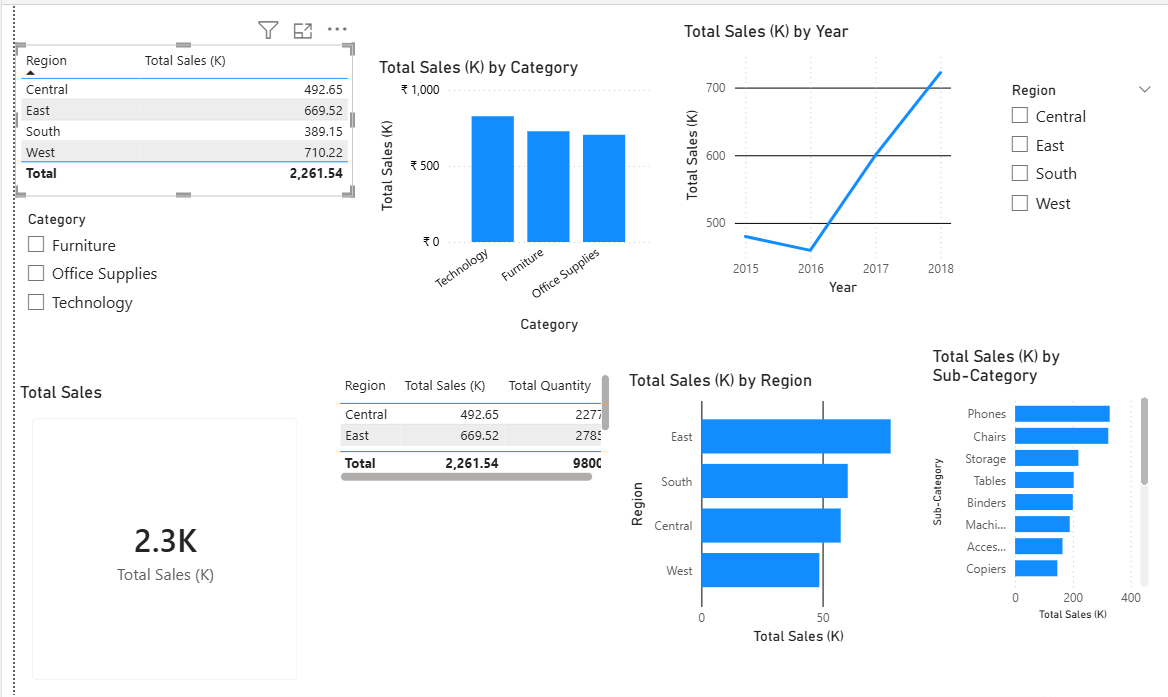

What the dashboard file says about the page in this screenshot:
{"tool":"powerbi","page":{"name":"Page 1","canvas":[1280,720],"ordinal":0},"visuals":[{"type":"tableEx","fields":{"Values":["train.Region","train.Total Sales"]},"box":[0,71.4,279.9,91.9],"z":2},{"type":"lineChart","fields":{"Category":["train.Order Date.Variation.Date Hierarchy.Year","train.Order Date.Variation.Date Hierarchy.Quarter","train.Order Date.Variation.Date Hierarchy.Month","train.Order Date.Variation.Date Hierarchy.Day"],"Y":["train.Total Sales"]},"box":[599.7,43.9,279.9,279.9],"z":4},{"type":"tableEx","fields":{"Values":["train.Region","train.Total Sales","train.Total Quantity"]},"box":[318.4,392.5,281.3,116.6],"z":6},{"type":"slicer","fields":{"Values":["train.Region"]},"box":[937.2,100.2,277.2,166],"z":7},{"type":"clusteredBarChart","fields":{"Category":["train.Sub-Category"],"Y":["train.Total Sales"]},"box":[1012.7,359.5,226.4,279.9],"z":10},{"type":"clusteredBarChart","fields":{"Category":["train.Region"],"Y":["train.Total Sales"]},"box":[609,392,280,280],"z":11},{"type":"slicer","fields":{"Values":["train.Category"]},"box":[0,229.2,299.1,163.3],"z":12},{"type":"clusteredColumnChart","fields":{"Y":["train.Total Sales"],"Category":["train.Category"]},"box":[279.9,71.4,281.3,279.9],"z":13},{"type":"cardVisual","title":"Total Sales","fields":{"Data":["train.Total Sales"]},"box":[0,404.8,299.1,315.6],"z":14}]}

Visuals, with their boxes on the page's 1280x720 design canvas (x1, y1, x2, y2). These are canvas units, not pixel positions in the 1168x697 screenshot, which may show the page scaled, cropped or inside an application window:
tableEx - train.Region x train.Total Sales: (0,71,280,163)
lineChart - train.Order Date.Variation.Date Hierarchy.Year x train.Order Date.Variation.Date Hierarchy.Quarter: (600,44,880,324)
tableEx - train.Region x train.Total Sales: (318,392,600,509)
slicer - train.Region: (937,100,1214,266)
clusteredBarChart - train.Sub-Category x train.Total Sales: (1013,360,1239,639)
clusteredBarChart - train.Region x train.Total Sales: (609,392,889,672)
slicer - train.Category: (0,229,299,392)
clusteredColumnChart - train.Total Sales x train.Category: (280,71,561,351)
"Total Sales" cardVisual: (0,405,299,720)
